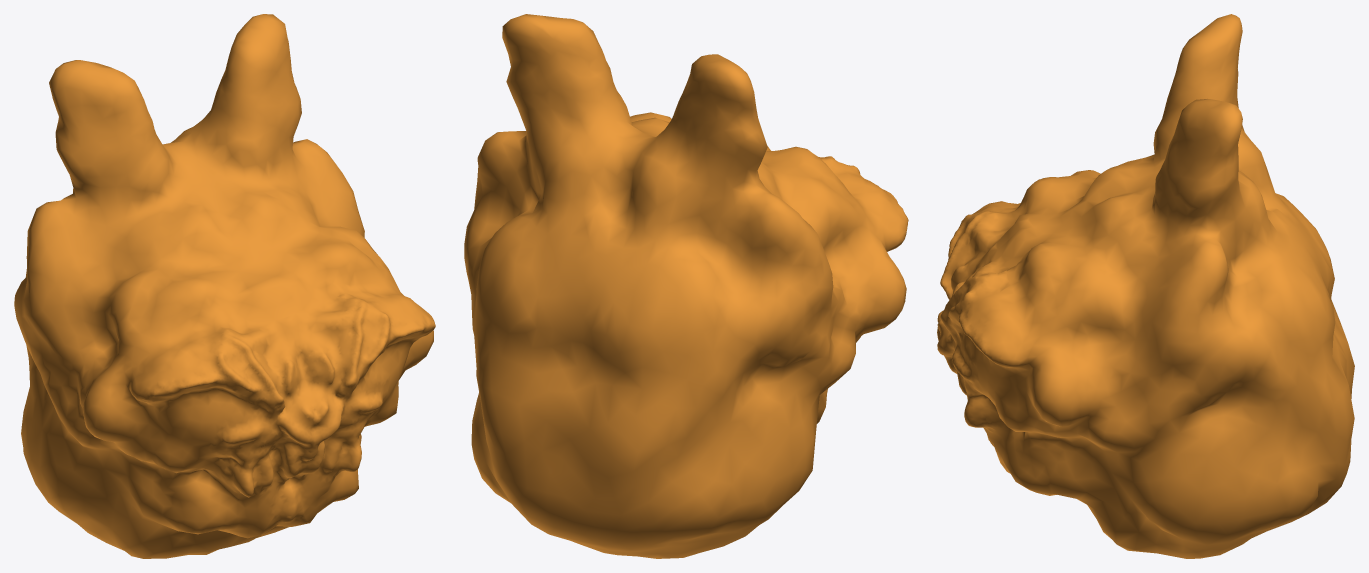
File: blobject3Draco.gltf
3 renders of one model, left to right at view 1: azimuth 30°, elevation 25°; view 2: azimuth 150°, elevation 25°; view 3: azimuth 270°, elevation 25°, orthographic. The views are drawn at different scales.
Visible parts, largest first — view 1: Quad Sphere; view 2: Quad Sphere; view 3: Quad Sphere.
Boxes of the visible parts, box(x1,y1,x2,y2) form: Quad Sphere: box(14, 14, 435, 558); Quad Sphere: box(464, 14, 908, 558); Quad Sphere: box(937, 14, 1354, 558).
Size of the model in its own units: 3.04 by 4.12 by 3.27.
